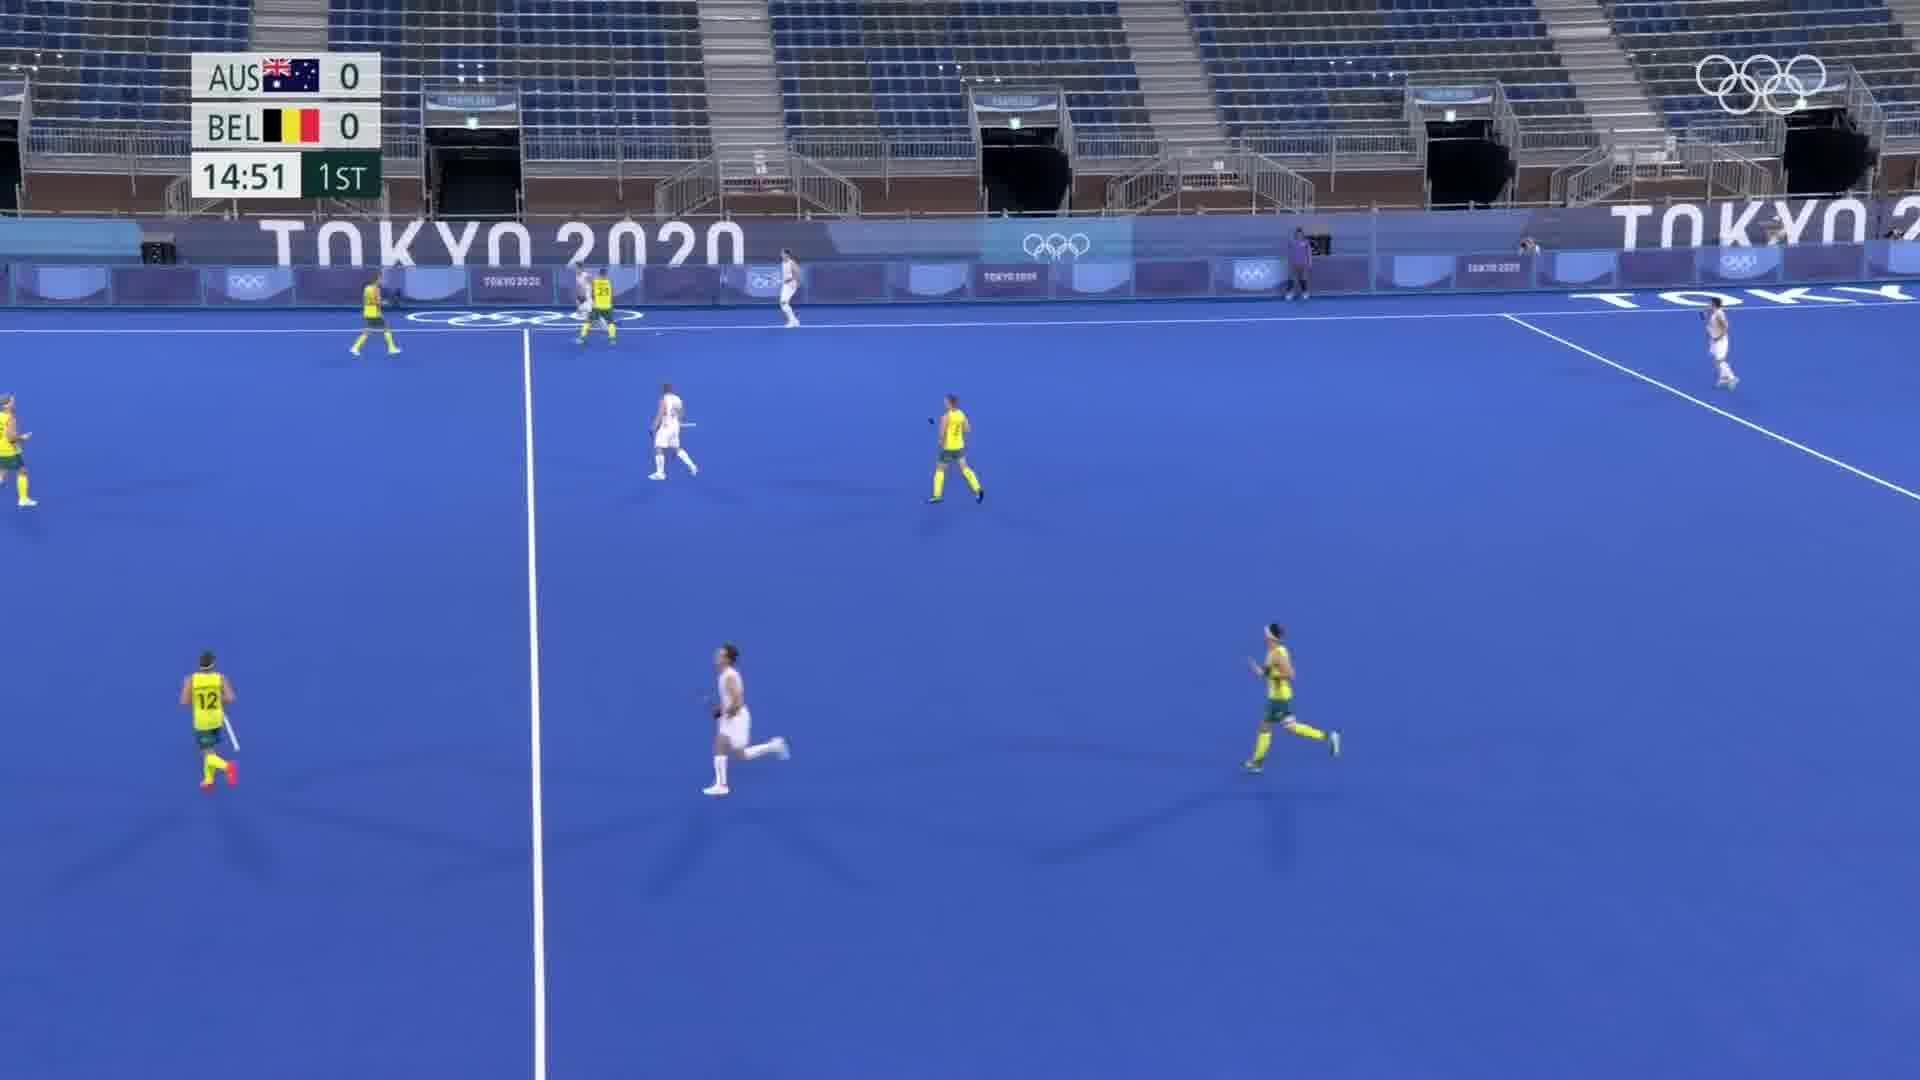ball: (646, 327, 667, 344)
